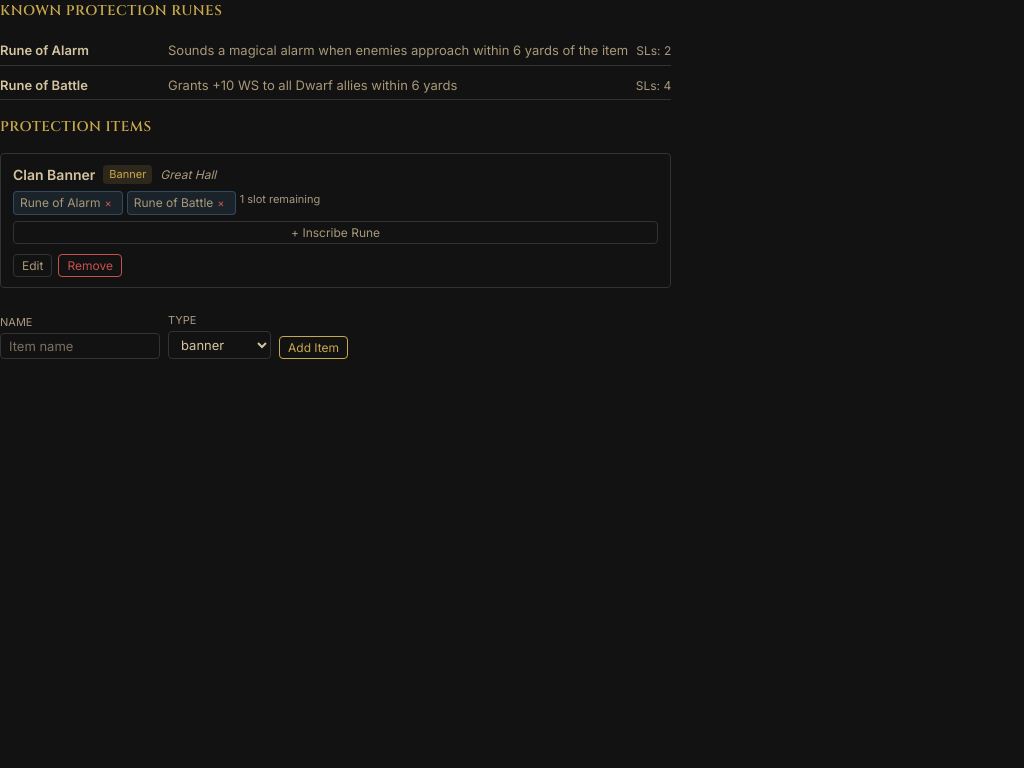
Test: Item removal confirmation dialog › shows confirmation dialog with rune count when Remove is clicked
The width and height of the screenshot is (1024, 768).
Click the button "Remove". click: (90, 266)
box: [58,254,122,277]
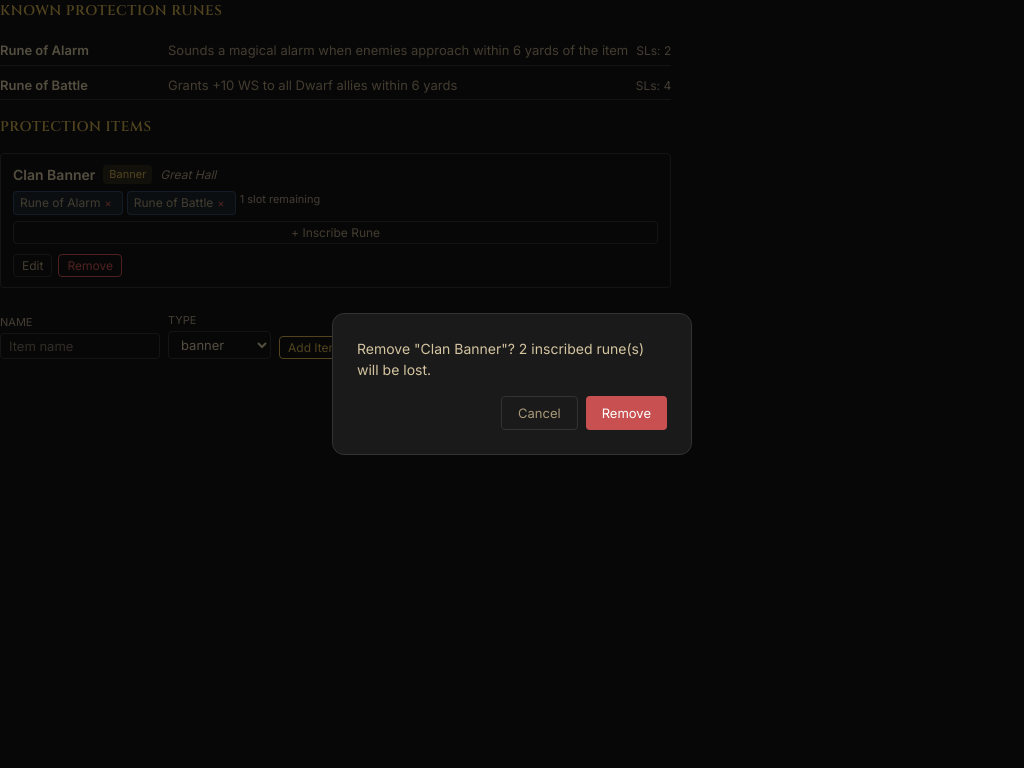
Result: the text "Remove \"Clan Banner\"? 2 inscribed rune(s) will be lost." is shown at [357,338,667,380]
